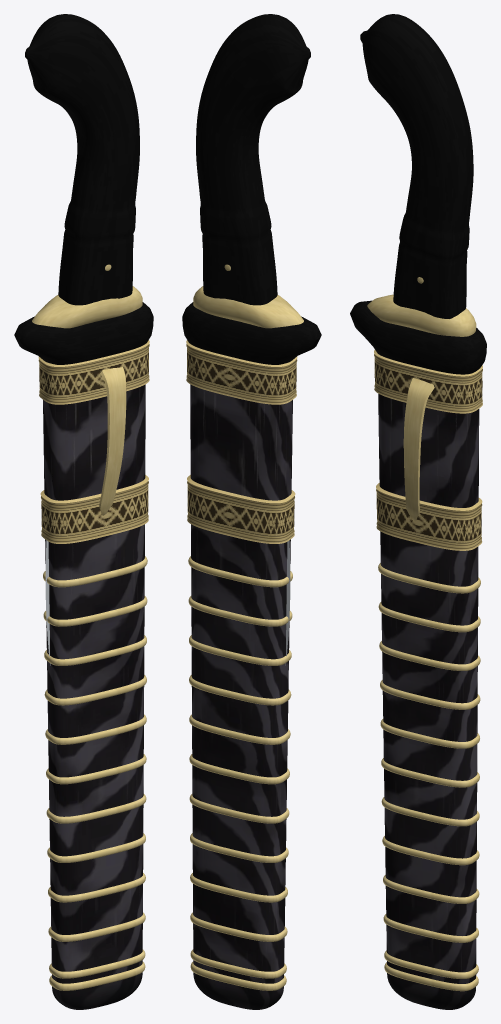
The model's file is golok_betawi.glb.
3 renders of one model, left to right at view 1: azimuth 30°, elevation 25°; view 2: azimuth 150°, elevation 25°; view 3: azimuth 330°, elevation 25°, orthographic.
Parts seen in each view (by area): view 1: Sarung_Badan, Hulu, Sarung_Simpay, Sarung_Kepala, Sarung_Sangkep, Salut, Bilah; view 2: Sarung_Badan, Hulu, Sarung_Simpay, Sarung_Kepala, Salut, Bilah; view 3: Sarung_Badan, Hulu, Sarung_Simpay, Sarung_Kepala, Sarung_Sangkep, Salut.
Boxes of the visible parts, left/top/right/bottom form: Sarung_Badan: left=43, top=384, right=145, bottom=1009; Hulu: left=25, top=14, right=139, bottom=305; Sarung_Simpay: left=38, top=340, right=149, bottom=990; Sarung_Kepala: left=14, top=302, right=153, bottom=364; Sarung_Sangkep: left=99, top=367, right=126, bottom=515; Salut: left=32, top=286, right=142, bottom=328; Bilah: left=45, top=540, right=50, bottom=665; Sarung_Badan: left=190, top=384, right=292, bottom=1009; Hulu: left=196, top=14, right=310, bottom=305; Sarung_Simpay: left=186, top=340, right=297, bottom=990; Sarung_Kepala: left=182, top=302, right=321, bottom=364; Salut: left=193, top=286, right=303, bottom=328; Bilah: left=285, top=540, right=290, bottom=665; Sarung_Badan: left=378, top=394, right=479, bottom=1009; Hulu: left=360, top=14, right=473, bottom=318; Sarung_Simpay: left=374, top=350, right=482, bottom=991; Sarung_Kepala: left=350, top=300, right=486, bottom=374; Sarung_Sangkep: left=403, top=378, right=434, bottom=520; Salut: left=367, top=294, right=476, bottom=336.
Size of the model in its own units: 0.064 by 0.4599 by 0.0281.
Materials: 6 (5 with a texture image).
